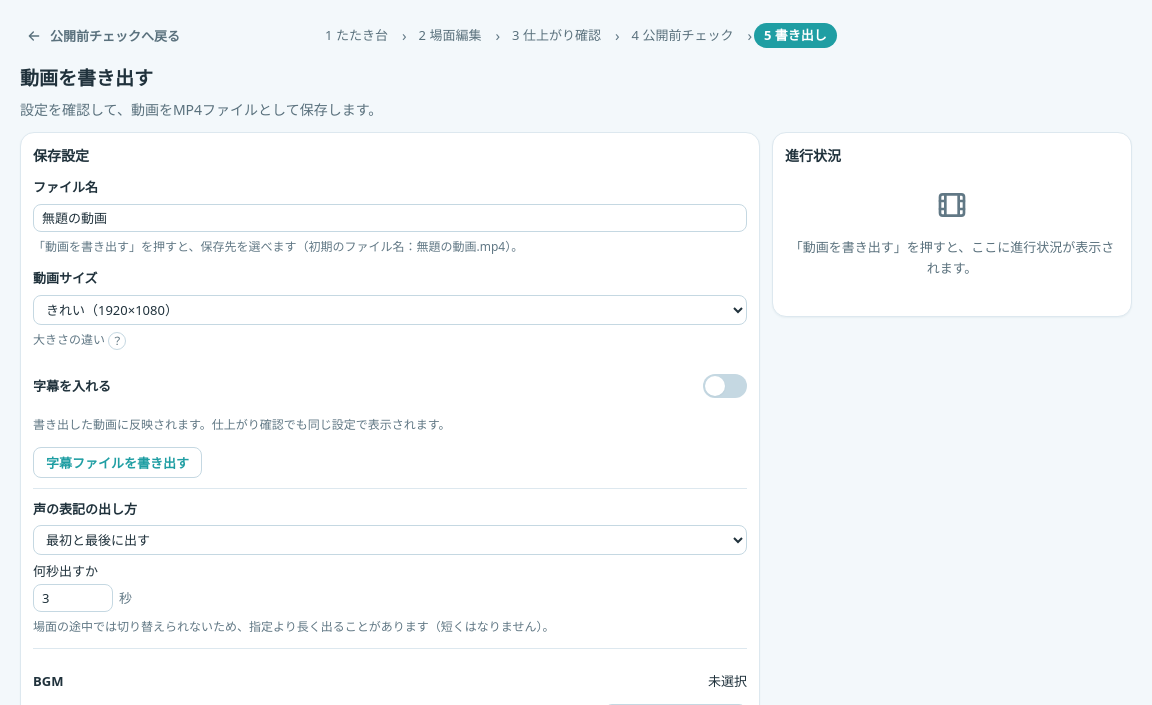
it: ExportScreen 字幕ファイルを書き出す › 字幕が無ければ書かずに次の行動を言う
The width and height of the screenshot is (1152, 705).
Click the button "字幕ファイルを書き出す".
click(118, 462)  # box [33, 446, 202, 478]
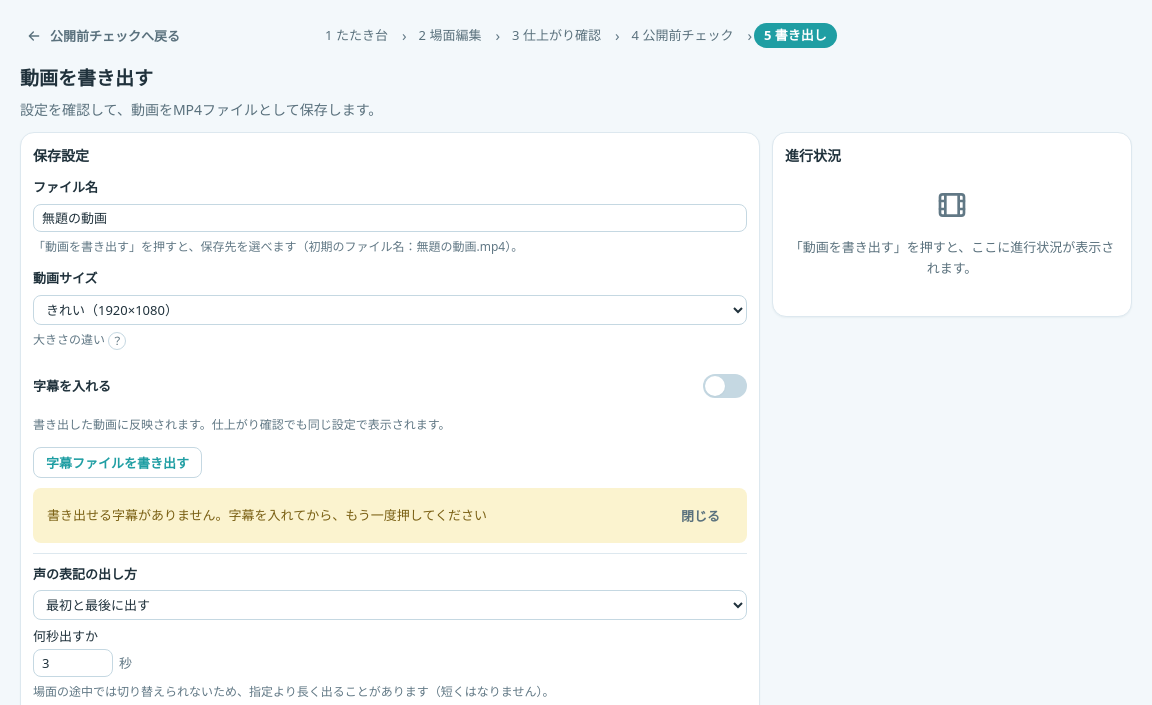
Result: the text "書き出せる字幕がありません。字幕を入れてから、もう一度押してください" is shown at [47, 505, 487, 525]
